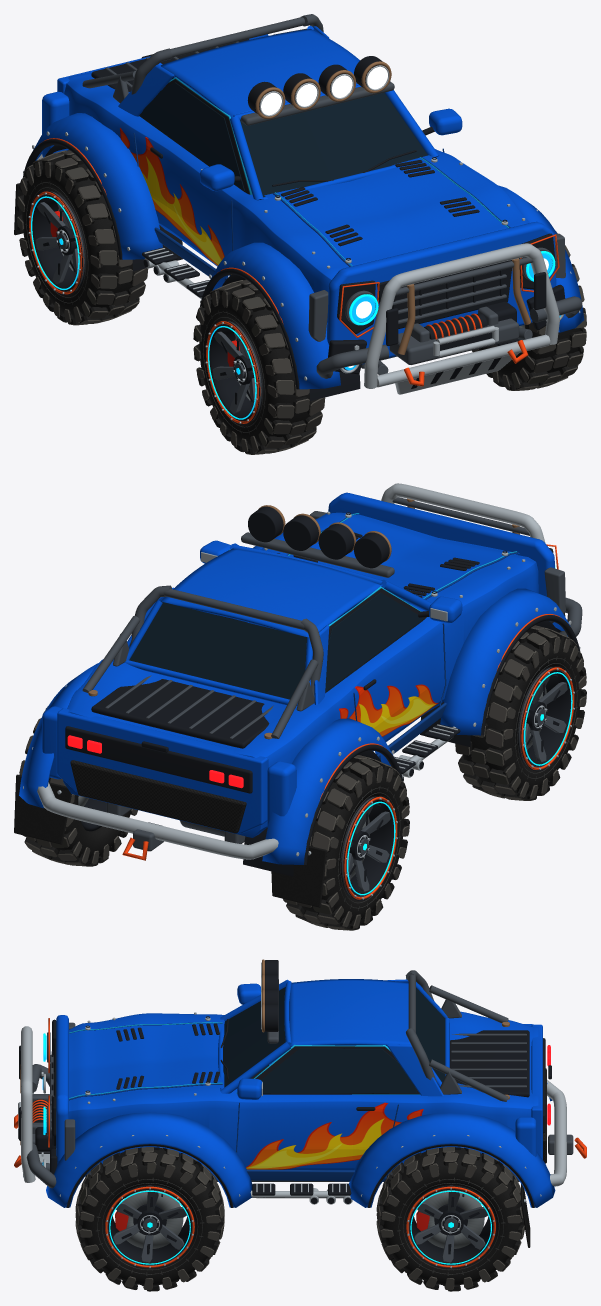
Rendered from 02_blue_monster.glb.
The picture shows the model from 3 angles, top to bottom: view 1: azimuth 30°, elevation 25°; view 2: azimuth 150°, elevation 25°; view 3: azimuth 270°, elevation 25°; orthographic projection. The views are drawn at different scales.
Visible parts, largest first — view 1: Vehicle_Static_Body, Wheel_FL_Geometry, Wheel_RL_Geometry, Wheel_FR_Geometry; view 2: Vehicle_Static_Body, Wheel_FL_Geometry, Wheel_RL_Geometry, Wheel_RR_Geometry; view 3: Vehicle_Static_Body, Wheel_FR_Geometry, Wheel_RR_Geometry.
Part boxes in pixels (left/top/right/bottom): Vehicle_Static_Body: left=14, top=14, right=584, bottom=400; Wheel_FL_Geometry: left=193, top=279, right=325, bottom=454; Wheel_RL_Geometry: left=16, top=150, right=148, bottom=325; Wheel_FR_Geometry: left=472, top=231, right=586, bottom=390; Vehicle_Static_Body: left=14, top=483, right=582, bottom=907; Wheel_FL_Geometry: left=455, top=625, right=586, bottom=800; Wheel_RL_Geometry: left=283, top=755, right=409, bottom=930; Wheel_RR_Geometry: left=19, top=706, right=137, bottom=866; Vehicle_Static_Body: left=14, top=959, right=586, bottom=1247; Wheel_FR_Geometry: left=75, top=1147, right=224, bottom=1291; Wheel_RR_Geometry: left=376, top=1147, right=524, bottom=1291.
Bounding box in the file's own units: 2.99 × 2.59 × 5.44.
22 materials, 4 textured.
